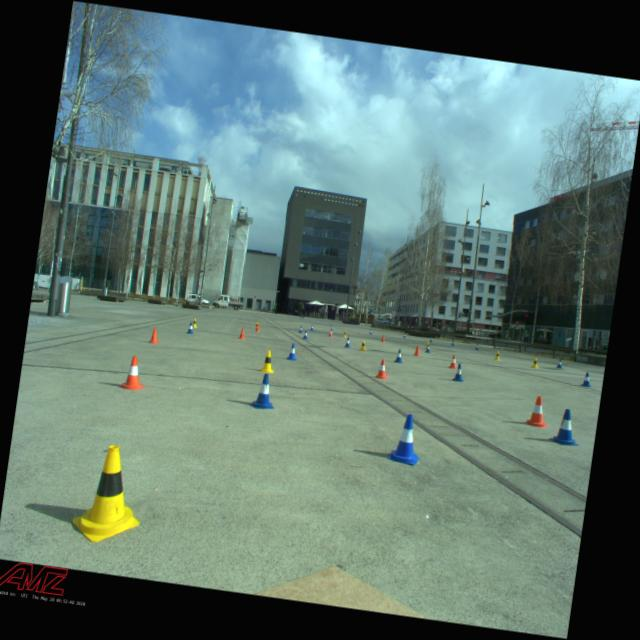blue_cone: (387, 412, 426, 466), (548, 408, 584, 448), (249, 372, 279, 412), (452, 363, 466, 382), (286, 343, 300, 361), (580, 372, 593, 388), (394, 348, 405, 364), (186, 322, 196, 334), (344, 337, 352, 348), (556, 359, 564, 369), (303, 330, 310, 340), (425, 344, 432, 354), (298, 326, 304, 334), (450, 340, 456, 346), (475, 344, 480, 351), (310, 324, 314, 331), (369, 330, 374, 335), (429, 337, 434, 342), (330, 325, 334, 331), (403, 333, 407, 338)
orange_cone: (118, 354, 150, 392), (524, 394, 552, 428), (374, 358, 392, 379), (148, 327, 162, 344), (448, 354, 460, 370), (238, 327, 247, 340), (413, 345, 421, 356), (255, 323, 262, 332), (328, 329, 334, 337), (381, 335, 386, 343)
yellow_cone: (70, 442, 150, 548), (259, 349, 277, 374), (359, 339, 368, 352), (531, 358, 540, 368), (494, 350, 502, 360), (192, 318, 198, 328), (254, 322, 260, 331), (424, 341, 430, 350), (342, 330, 348, 338)
